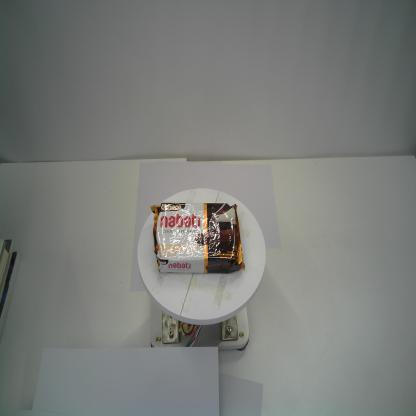Dessert: (149, 200, 247, 274)
